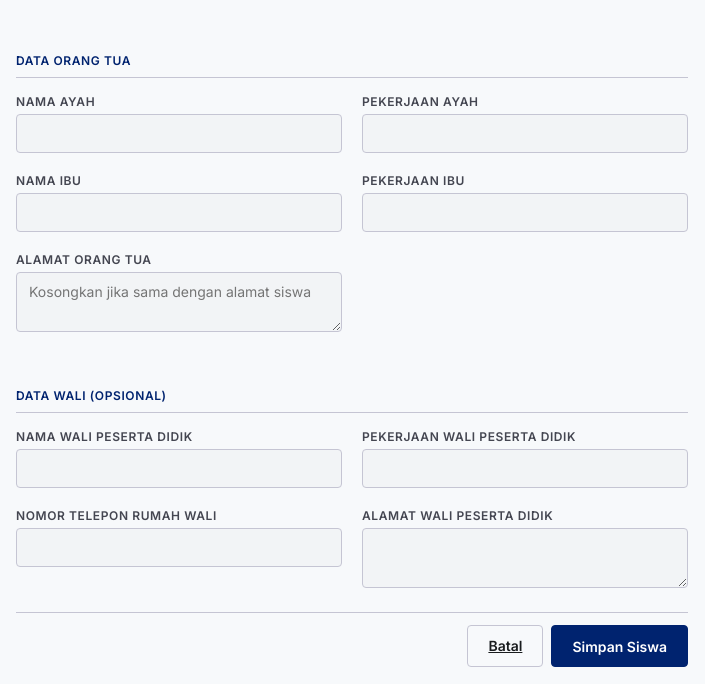
Test case: Add Student Page › shows validation errors on empty submission
(page scrolled)
Step 1. Click the button "Simpan Siswa" → (620, 646), box 551,625 -> 688,667
(page scrolled)
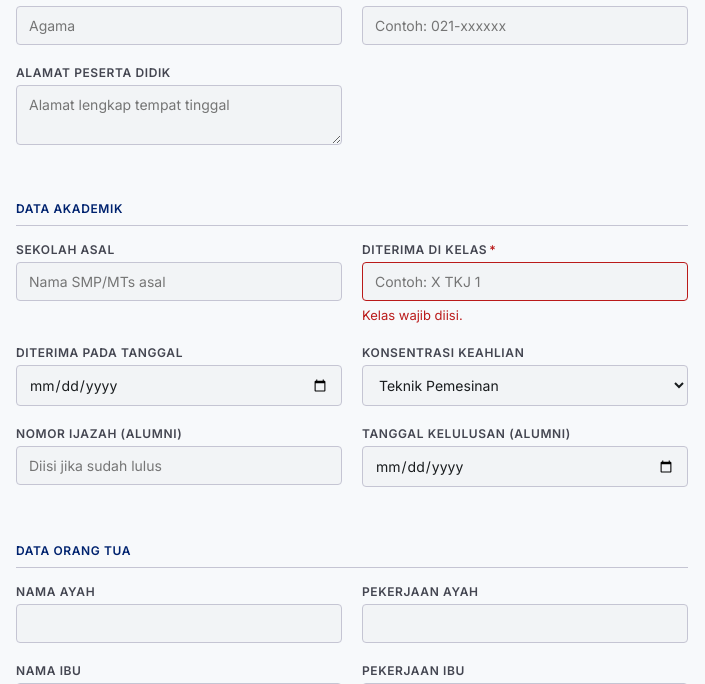
Expected: the text "Kelas wajib diisi." is shown, 362,307 -> 463,323
